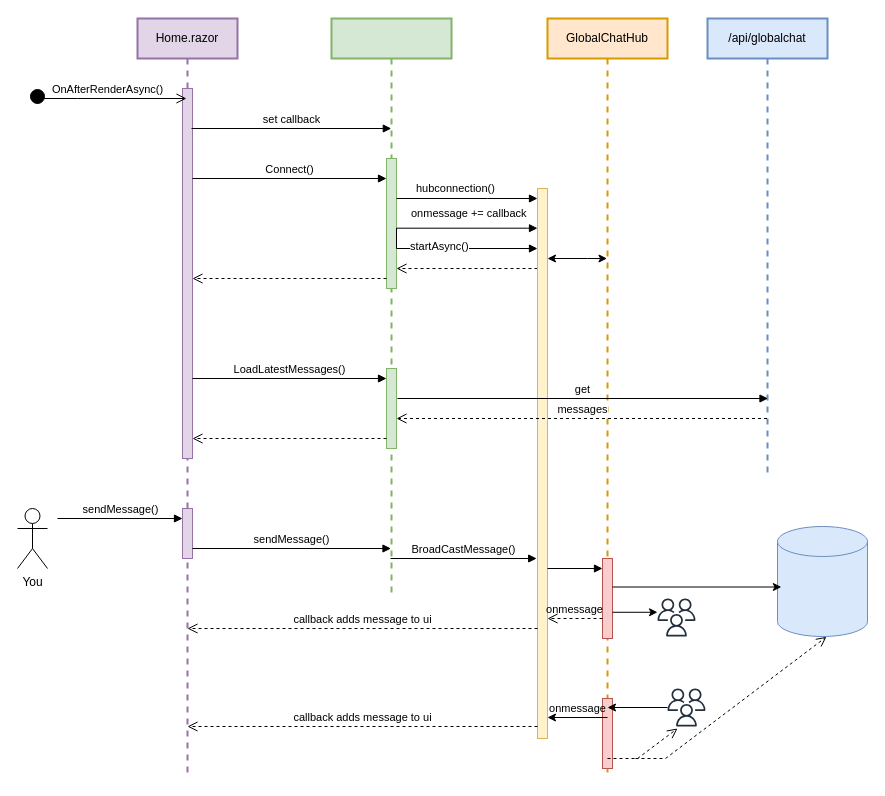
This 885x796 diagram has some shape labels left out. Here are the shapes that lost their labels. From the top down, the centre of each, then its label:
At (x=391, y=308): "GlobalChatService".
At (x=822, y=581): "AppDbContext".
